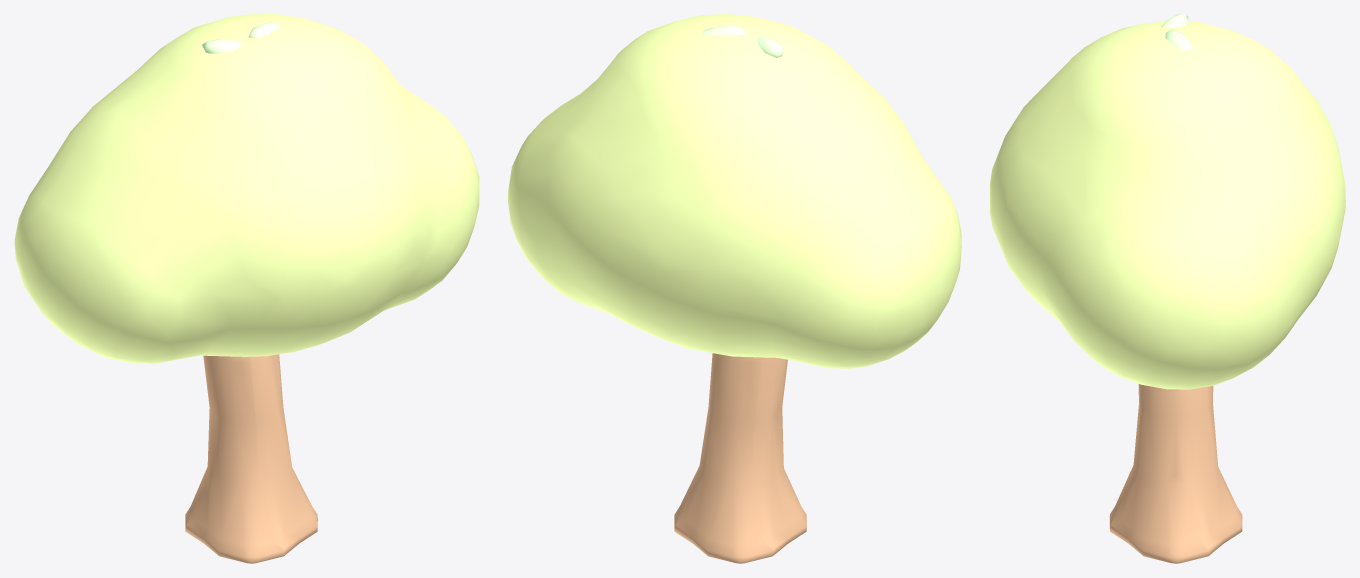
The model's file is tree-fat.glb.
3 renders of one model, left to right at view 1: azimuth 30°, elevation 25°; view 2: azimuth 150°, elevation 25°; view 3: azimuth 270°, elevation 25°, orthographic.
Parts seen in each view (by area): view 1: tree-fat; view 2: tree-fat; view 3: tree-fat.
Boxes of the visible parts, left/top/right/bottom form: tree-fat: left=14, top=14, right=479, bottom=563; tree-fat: left=508, top=14, right=961, bottom=563; tree-fat: left=990, top=14, right=1345, bottom=563.
Size of the model in its own units: 3.6 by 4.14 by 2.63.
